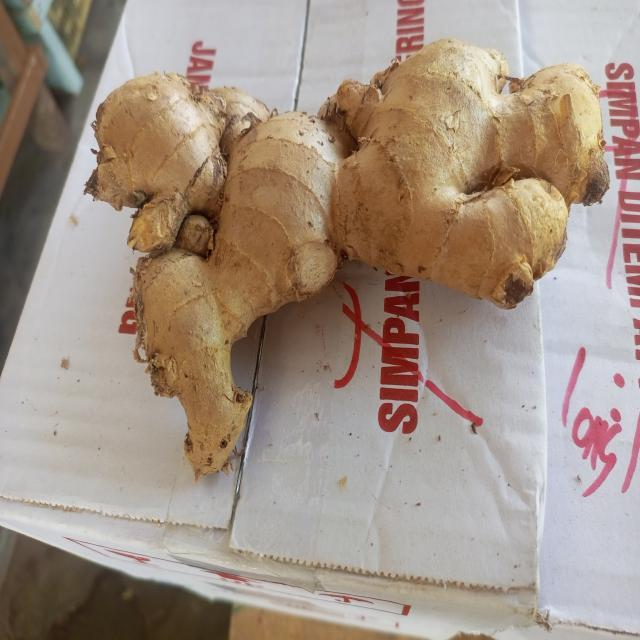ginger: (90, 40, 602, 454)
